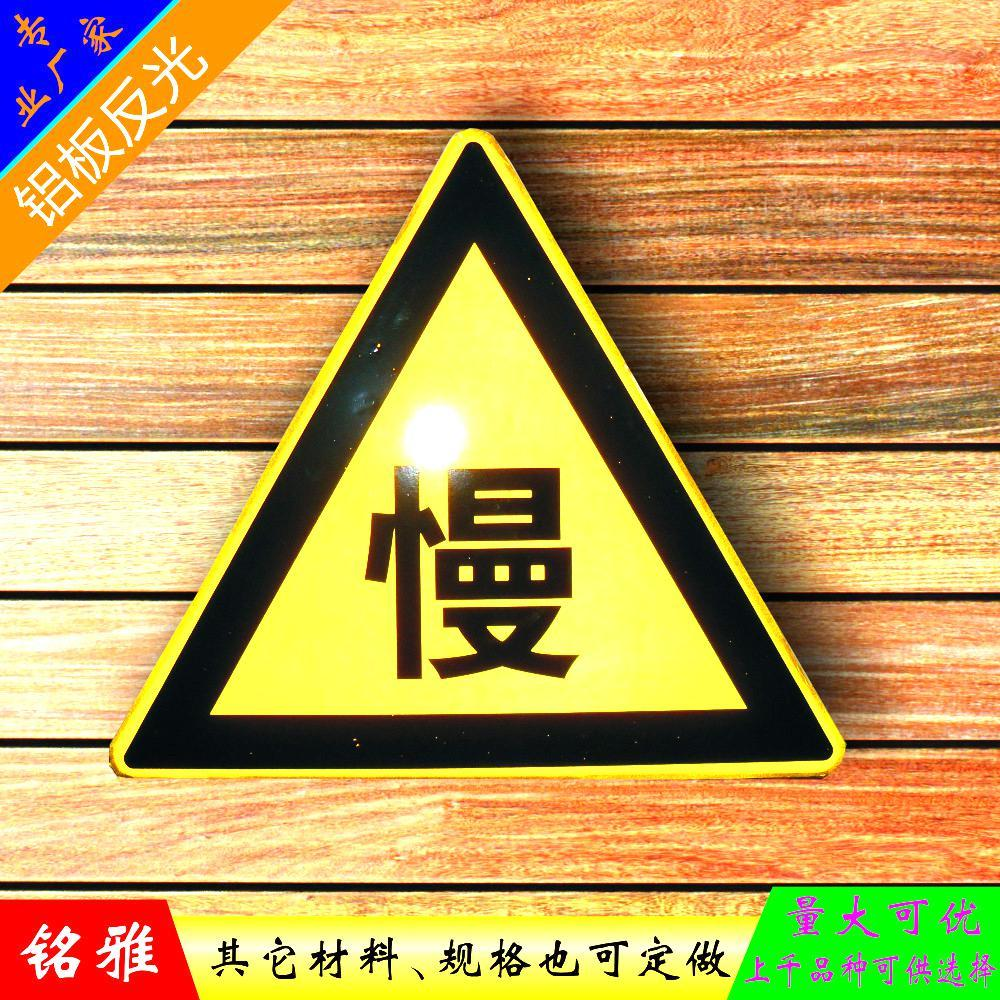sign: (126, 170, 845, 791)
